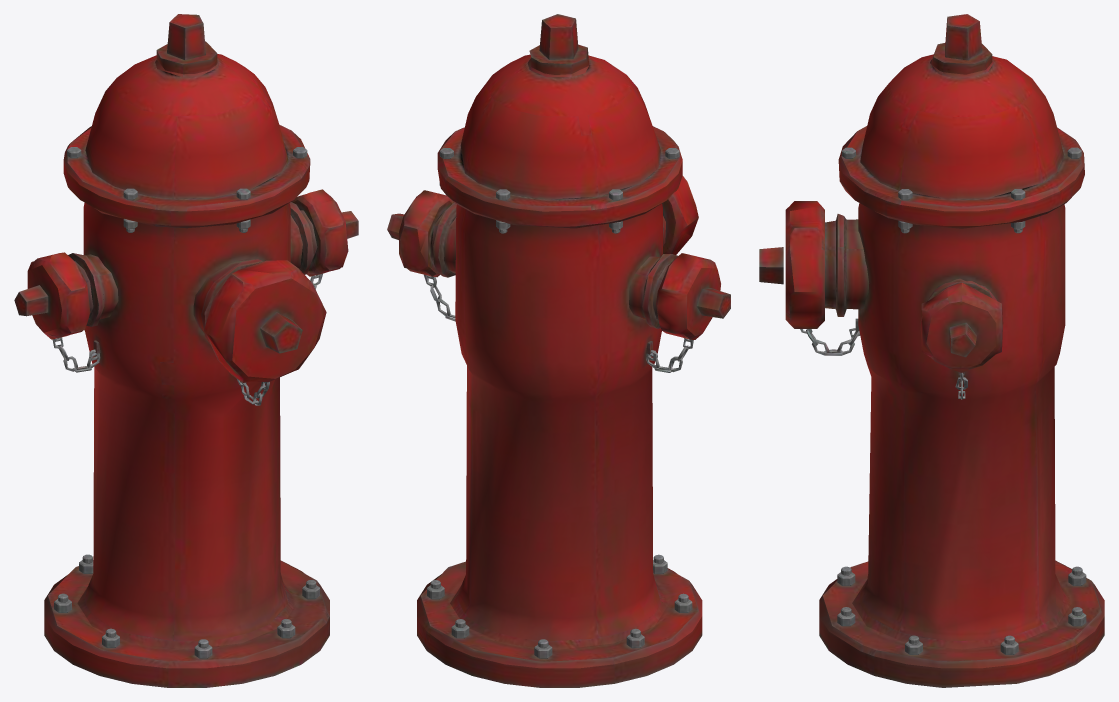
File: fire-hydrant.glb
The picture shows the model from 3 angles, left to right: view 1: azimuth 30°, elevation 25°; view 2: azimuth 150°, elevation 25°; view 3: azimuth 270°, elevation 25°; orthographic projection.
Visible parts, largest first — view 1: fire-hydrant_body; view 2: fire-hydrant_body; view 3: fire-hydrant_body.
Part boxes in pixels (x1,y1,x2,y2): fire-hydrant_body: (14, 14, 358, 687); fire-hydrant_body: (387, 14, 730, 687); fire-hydrant_body: (759, 14, 1104, 687).
Bounding box in the file's own units: 0.426 × 0.744 × 0.3837.
1 material, 1 textured.
